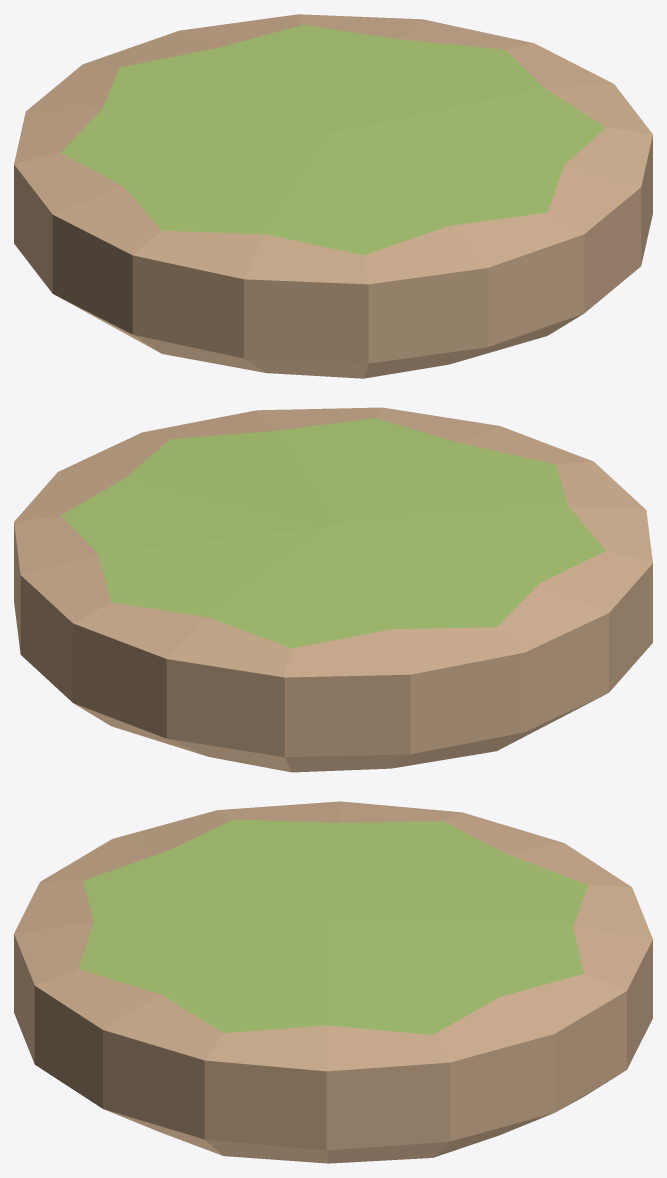
Rendered from small_isle.fbx.
The picture shows the model from 3 angles, top to bottom: view 1: azimuth 30°, elevation 25°; view 2: azimuth 150°, elevation 25°; view 3: azimuth 270°, elevation 25°; orthographic projection.
Parts seen in each view (by area): view 1: Cylinder; view 2: Cylinder; view 3: Cylinder.
Part boxes in pixels (box(x1,y1,x2,y2)): Cylinder: box(14, 14, 652, 378); Cylinder: box(14, 407, 652, 772); Cylinder: box(14, 801, 652, 1163).
Size of the model in its own units: 1997 by 545 by 1997.
